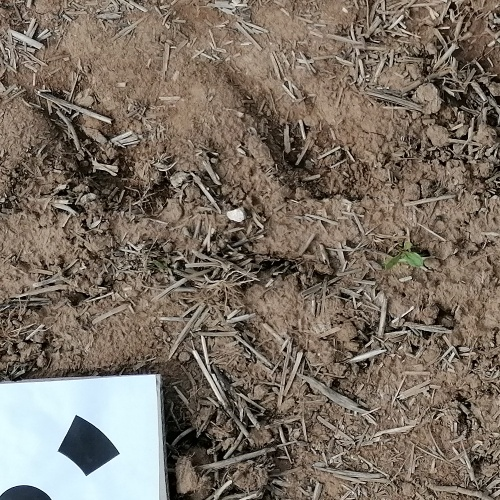beet: (385, 237, 425, 271)
